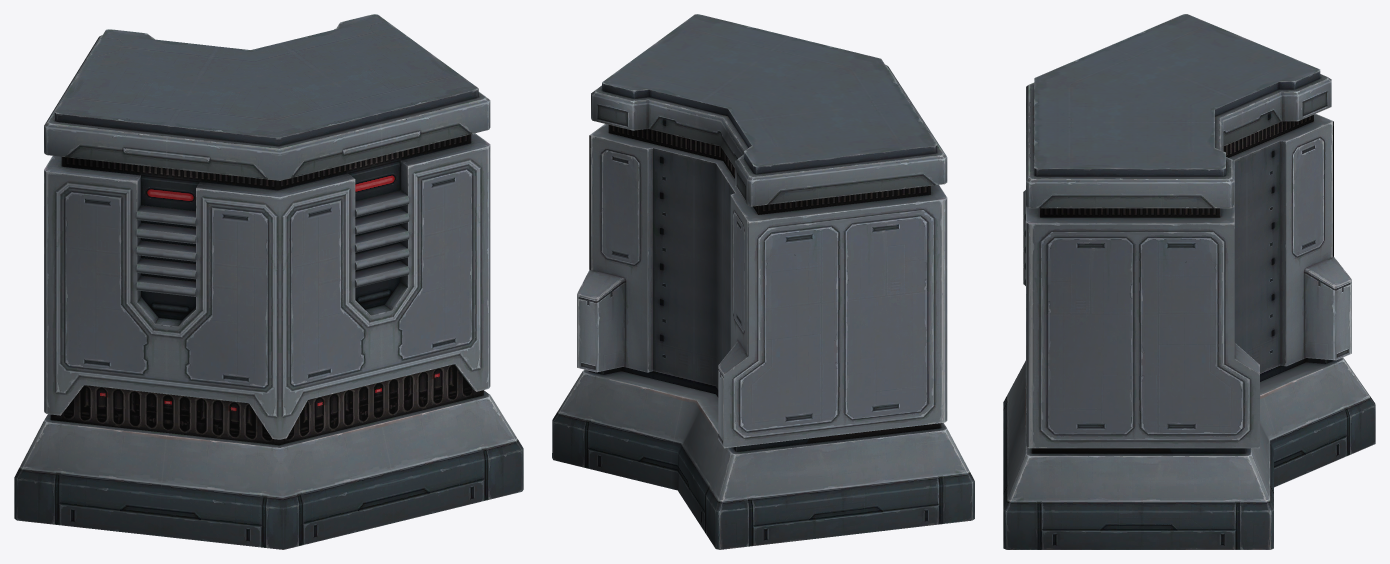
Rendered from all_wallset_imperial_containment_pillar_45.glb.
3 renders of one model, left to right at view 1: azimuth 30°, elevation 25°; view 2: azimuth 150°, elevation 25°; view 3: azimuth 270°, elevation 25°, orthographic. The views are drawn at different scales.
Parts seen in each view (by area): view 1: all_wallset_imperial_containment_pillar_45; view 2: all_wallset_imperial_containment_pillar_45; view 3: all_wallset_imperial_containment_pillar_45.
Boxes of the visible parts, left/top/right/bottom form: all_wallset_imperial_containment_pillar_45: left=14, top=14, right=523, bottom=549; all_wallset_imperial_containment_pillar_45: left=552, top=14, right=974, bottom=549; all_wallset_imperial_containment_pillar_45: left=1003, top=14, right=1375, bottom=549.
Bounding box in the file's own units: 0.7819 × 0.72 × 0.6601.
1 material, 1 textured.
